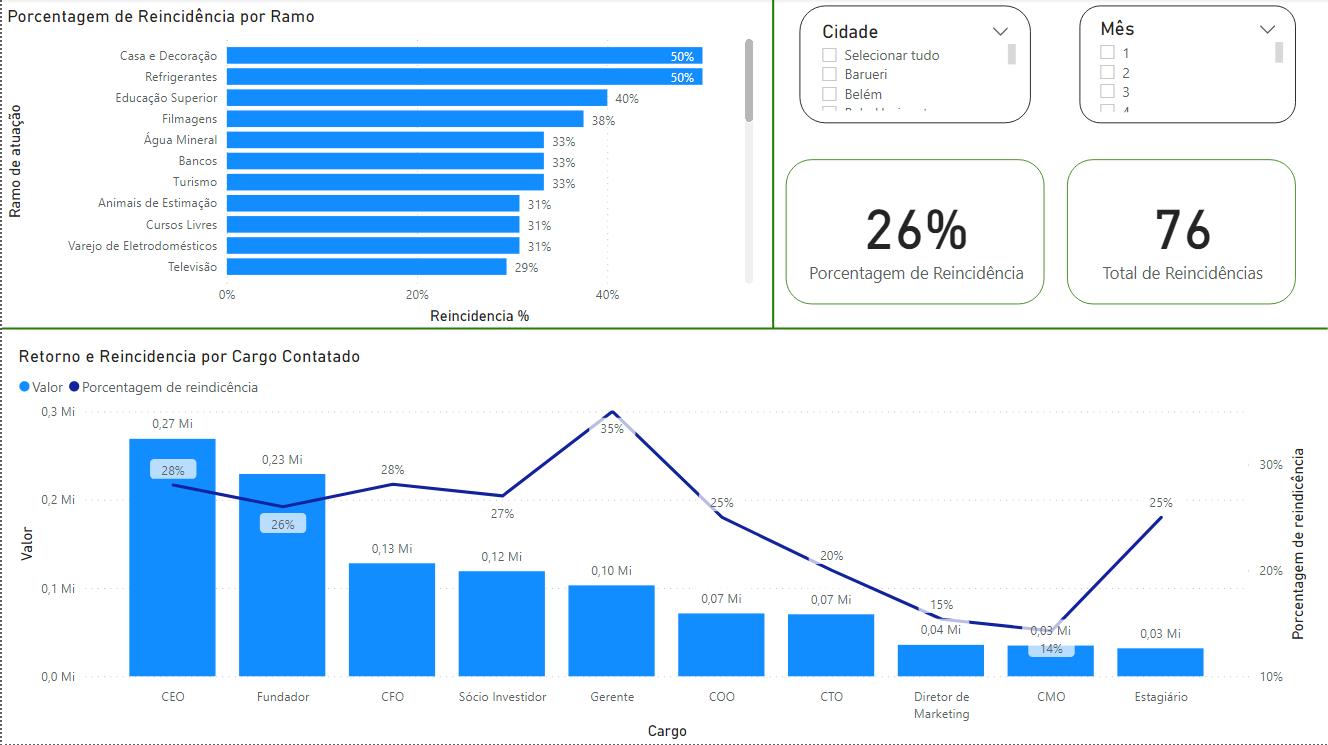

The page's visual inventory and layout, read from the dashboard file:
{"tool":"powerbi","page":{"name":"Reindência","canvas":[1280,720],"ordinal":1},"visuals":[{"type":"lineStackedColumnComboChart","title":"Retorno e Reincidencia por Cargo Contatado","fields":{"Y":["Sum(BaseTransacao.Valor)"],"Category":["BaseInformacao.Cargo"],"Y2":["BaseRecorrencia.%"]},"box":[10.9,335.3,1251.9,384.7],"z":0},{"type":"slicer","fields":{"Values":["BaseCalendario.Mês"]},"box":[1039.6,7.2,208.6,113.4],"z":1000},{"type":"clusteredBarChart","title":"Porcentagem de Reincidência por Ramo","fields":{"Y":["BaseRecorrencia.Reincidencia %"],"Category":["BaseInformacao.Ramo de atuação"]},"box":[0,7.2,729.6,312.4],"z":2000},{"type":"shape","box":[0,252.1,1279.6,133.9],"z":3000},{"type":"shape","box":[730.1,0,29.2,319.3],"z":4000},{"type":"card","fields":{"Values":["BaseRecorrencia.Reincidencia %"]},"box":[756.2,155.6,249.6,139.9],"z":5000},{"type":"card","fields":{"Values":["Sum(BaseRecorrencia.Reincidencia)"]},"box":[1027.5,155.6,220.7,139.9],"z":6000},{"type":"slicer","fields":{"Values":["BaseInformacao.Cidade"]},"box":[769.4,7.2,223.1,113.4],"z":7000}]}

Visuals, with their boxes in screenshot pixels (x1, y1, x2, y2), scaled from the page's 1280x720 canvas onto the 1328x745 screenshot:
"Retorno e Reincidencia por Cargo Contatado" lineStackedColumnComboChart: box(11, 347, 1310, 744)
slicer - BaseCalendario.Mês: box(1079, 7, 1295, 125)
"Porcentagem de Reincidência por Ramo" clusteredBarChart: box(0, 7, 757, 331)
shape: box(0, 261, 1327, 399)
shape: box(757, 0, 788, 330)
card - BaseRecorrencia.Reincidencia %: box(785, 161, 1044, 306)
card - Sum(BaseRecorrencia.Reincidencia): box(1066, 161, 1295, 306)
slicer - BaseInformacao.Cidade: box(798, 7, 1030, 125)
